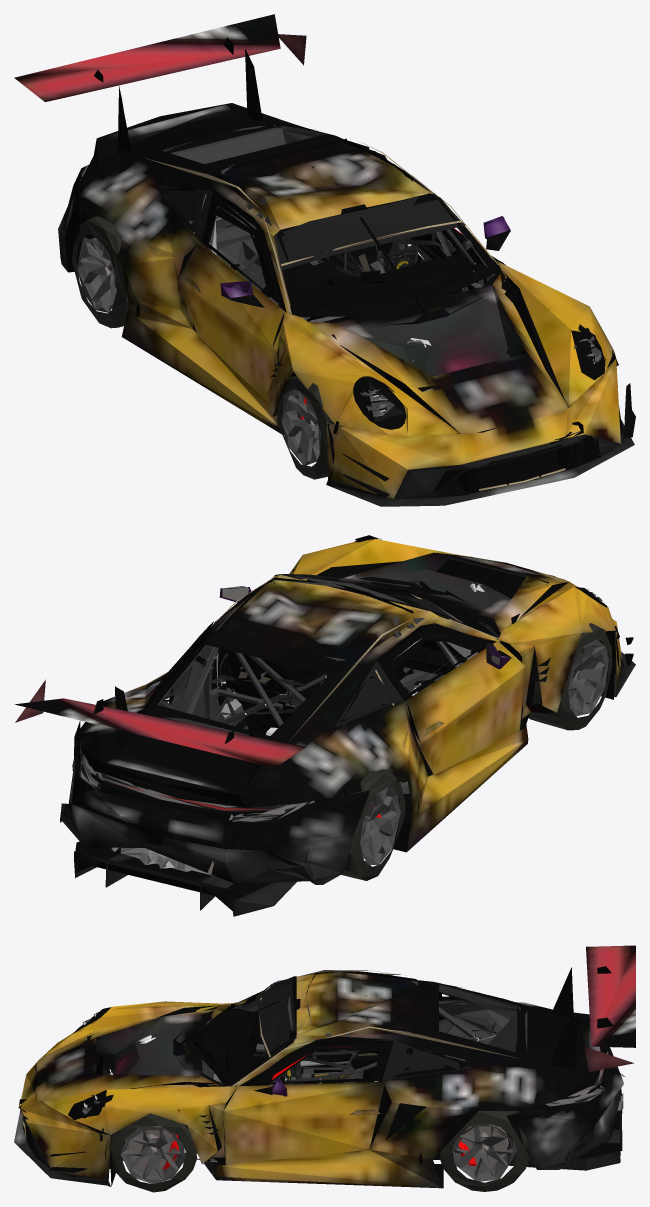
3 renders of one model, top to bottom at view 1: azimuth 30°, elevation 25°; view 2: azimuth 150°, elevation 25°; view 3: azimuth 270°, elevation 25°, orthographic. The views are drawn at different scales.
Visible parts, largest first — view 1: BODY, W1, W3; view 2: BODY, W3, W1; view 3: BODY, W2, W0.
Part boxes in pixels (x1,y1,x2,y2): BODY: (14, 14, 635, 506); W1: (72, 204, 140, 328); W3: (277, 357, 368, 479); BODY: (14, 535, 635, 916); W3: (512, 615, 614, 730); W1: (341, 769, 412, 880); BODY: (14, 945, 635, 1188); W2: (109, 1113, 211, 1192); W0: (439, 1107, 529, 1191).
Size of what is drawn, in the model's own units: 1.97 by 1.2 by 4.56.
Materials: 9 (7 with a texture image).
